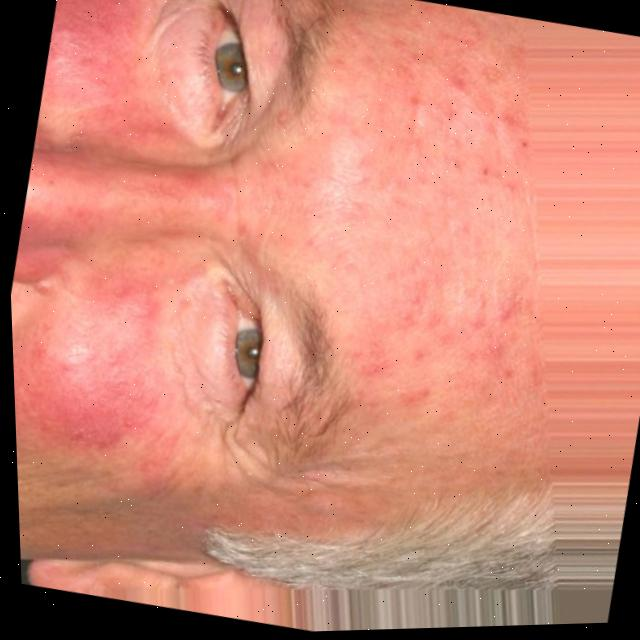Rosacea: (272, 0, 588, 422), (11, 280, 193, 490), (17, 144, 170, 259), (35, 0, 172, 126)
